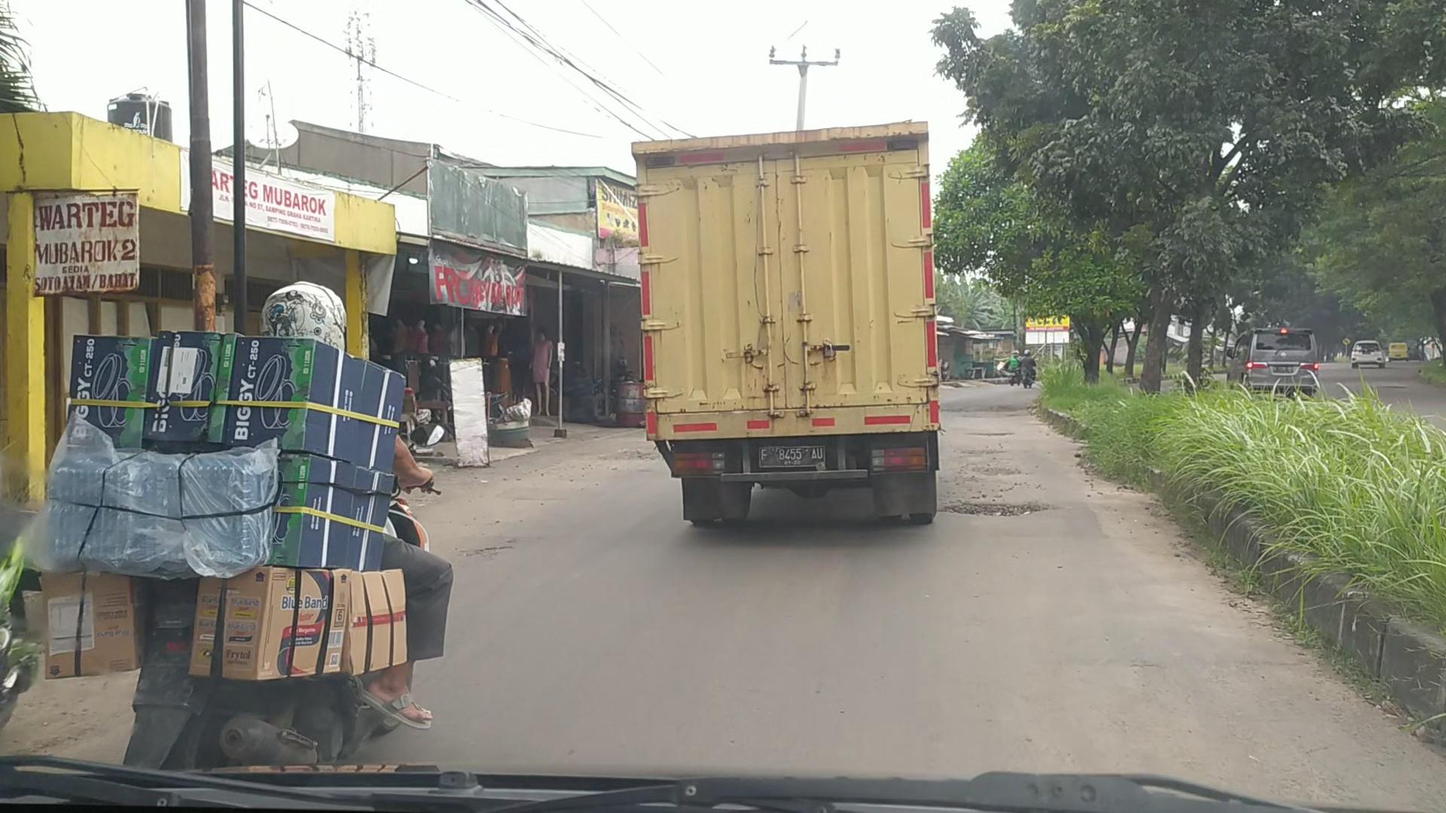pothole: (947, 503, 1051, 519), (973, 466, 1017, 475)
